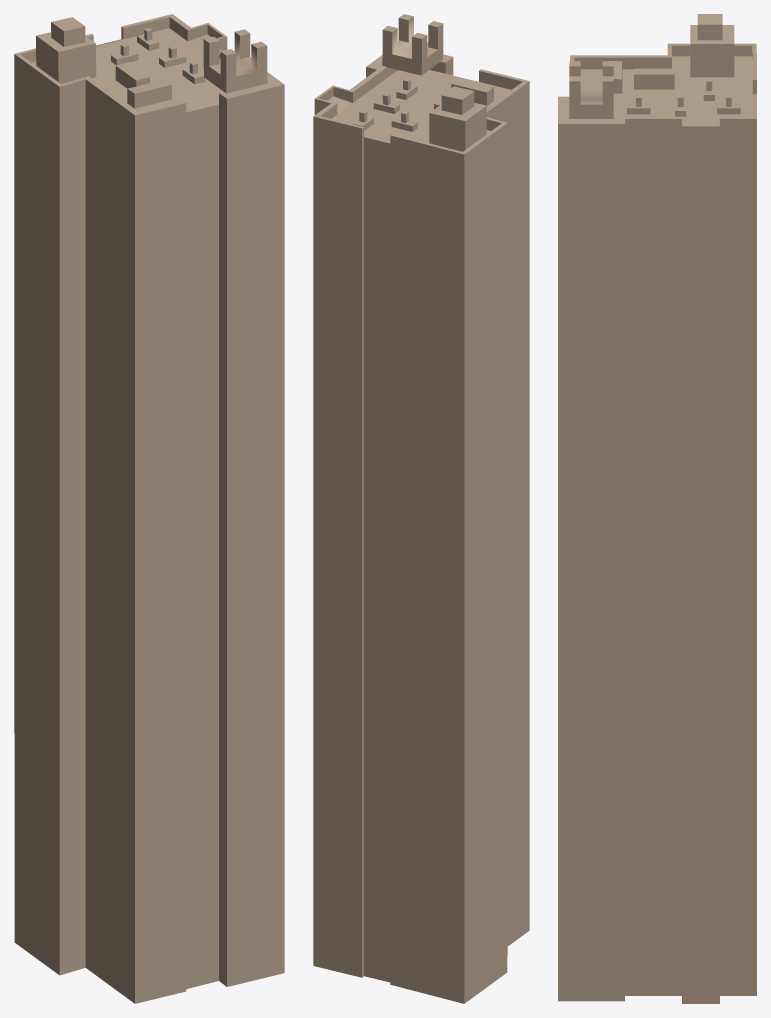
3 renders of one model, left to right at view 1: azimuth 30°, elevation 25°; view 2: azimuth 150°, elevation 25°; view 3: azimuth 270°, elevation 25°, orthographic. The views are drawn at different scales.
Visible parts, largest first — view 1: B8_pCube9; view 2: B8_pCube9; view 3: B8_pCube9.
Boxes of the visible parts, left/top/right/bottom form: B8_pCube9: left=14, top=14, right=284, bottom=1003; B8_pCube9: left=313, top=14, right=529, bottom=1003; B8_pCube9: left=558, top=14, right=756, bottom=1003.
Bounding box in the file's own units: 19.91 × 101 × 19.79.
